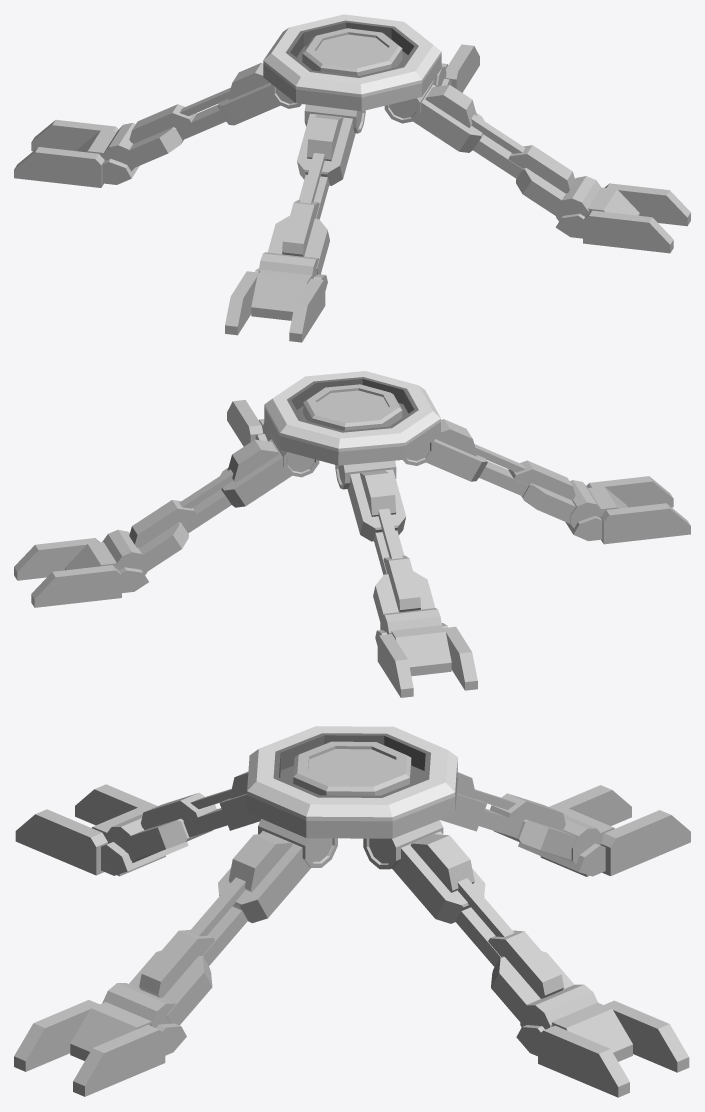
File: SM_Sentry_Base_2.fbx
3 renders of one model, top to bottom at view 1: azimuth 30°, elevation 25°; view 2: azimuth 150°, elevation 25°; view 3: azimuth 270°, elevation 25°, orthographic. The views are drawn at different scales.
Visible parts, largest first — view 1: SM_Sentry_Foot_1 (×4), SM_Sentry_Base_2, SM_Sentry_Leg_1, SM_Sentry_Leg_2, SM_Sentry_Leg_4; view 2: SM_Sentry_Foot_1 (×4), SM_Sentry_Base_2, SM_Sentry_Leg_3, SM_Sentry_Leg_4, SM_Sentry_Leg_2; view 3: SM_Sentry_Foot_1 (×4), SM_Sentry_Base_2, SM_Sentry_Leg_1, SM_Sentry_Leg_3, SM_Sentry_Leg_2, SM_Sentry_Leg_4.
Boxes of the visible parts, x1,y1,x2,y2 form: SM_Sentry_Foot_1 (×4): (14,44,690,342); SM_Sentry_Base_2: (263,14,441,111); SM_Sentry_Leg_1: (384,80,575,215); SM_Sentry_Leg_2: (267,104,365,274); SM_Sentry_Leg_4: (119,62,301,169); SM_Sentry_Foot_1 (×4): (14,400,690,697); SM_Sentry_Base_2: (264,371,440,465); SM_Sentry_Leg_3: (129,434,319,573); SM_Sentry_Leg_4: (335,460,435,621); SM_Sentry_Leg_2: (403,419,575,523); SM_Sentry_Foot_1 (×4): (14,784,690,1097); SM_Sentry_Base_2: (247,726,457,838); SM_Sentry_Leg_1: (129,819,337,1025); SM_Sentry_Leg_3: (363,820,574,1021); SM_Sentry_Leg_2: (120,771,260,860); SM_Sentry_Leg_4: (441,772,576,859).
Size of the model in its own units: 232 by 72.54 by 232.
